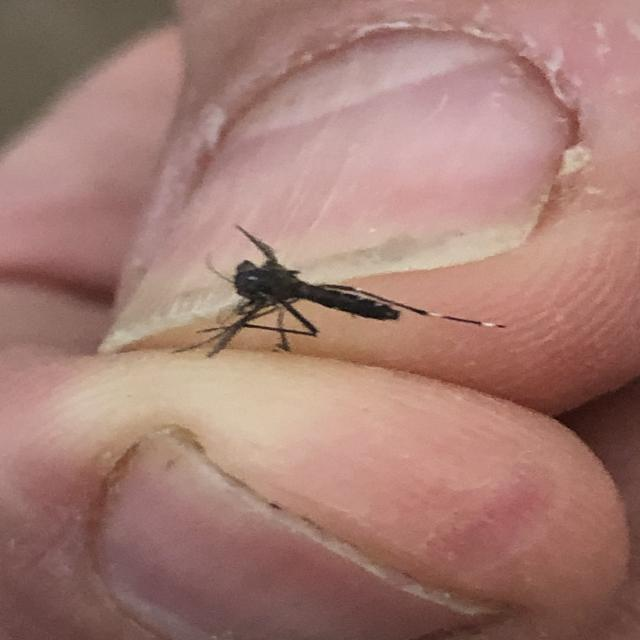albopictus: (169, 207, 494, 365)
